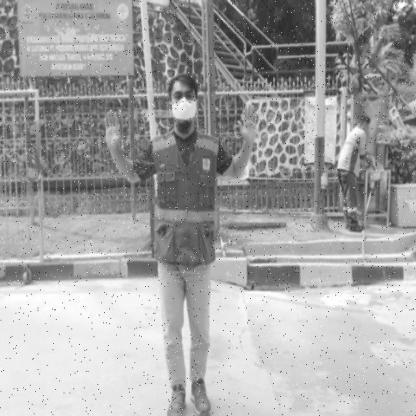boots: (189, 377, 213, 415), (166, 380, 190, 416)
mask: (172, 98, 196, 120)
